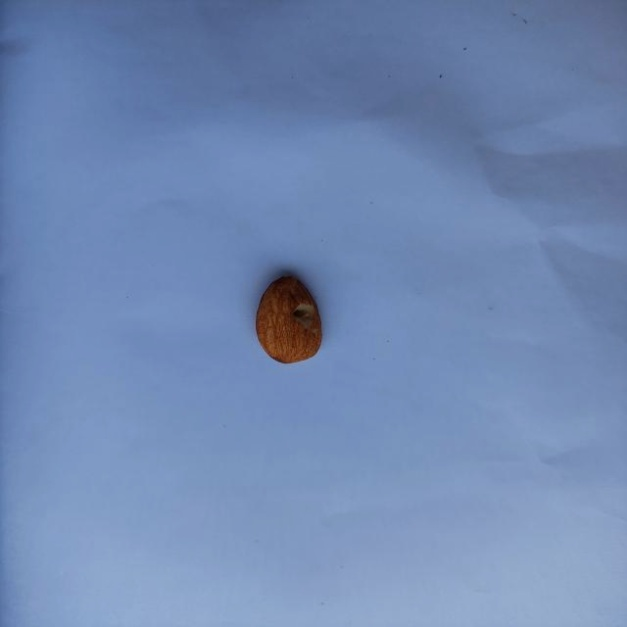grade3: (254, 271, 327, 368)
